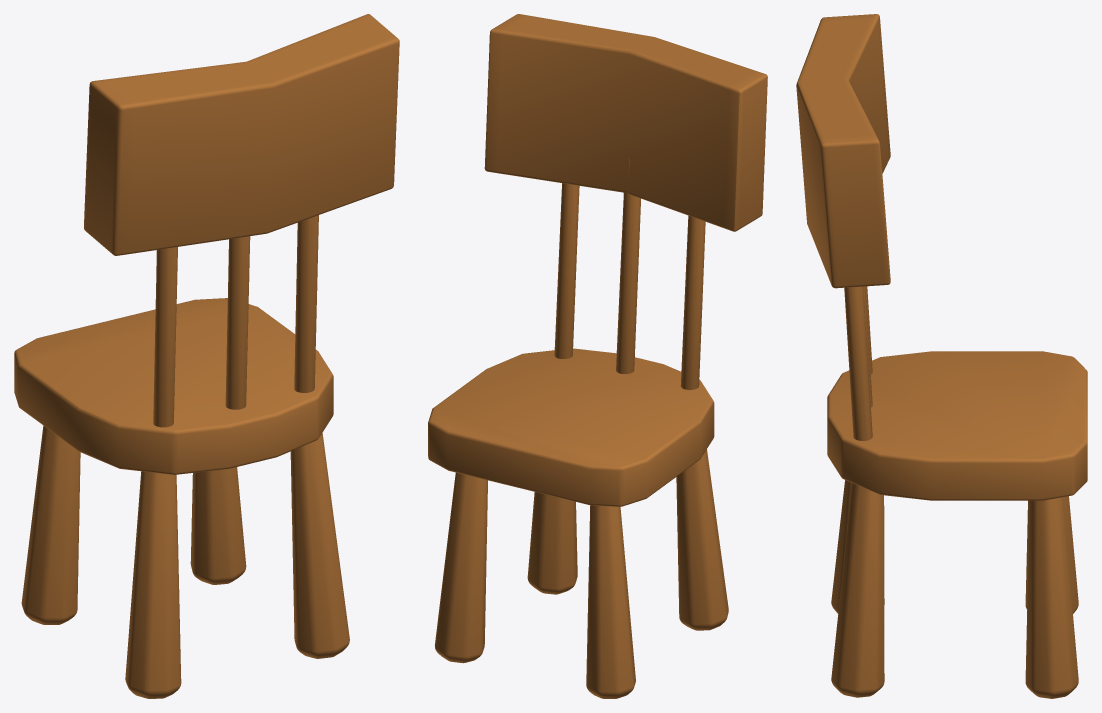
The model's file is sandalye.fbx.
The picture shows the model from 3 angles, left to right: view 1: azimuth 30°, elevation 25°; view 2: azimuth 150°, elevation 25°; view 3: azimuth 270°, elevation 25°; orthographic projection. The views are drawn at different scales.
Parts seen in each view (by area): view 1: Cube.075; view 2: Cube.075; view 3: Cube.075.
Boxes of the visible parts, bbox=[...] form: Cube.075: bbox=[14, 14, 399, 698]; Cube.075: bbox=[428, 14, 767, 698]; Cube.075: bbox=[796, 14, 1087, 698].
Size of the model in its own units: 168 by 353 by 161.
